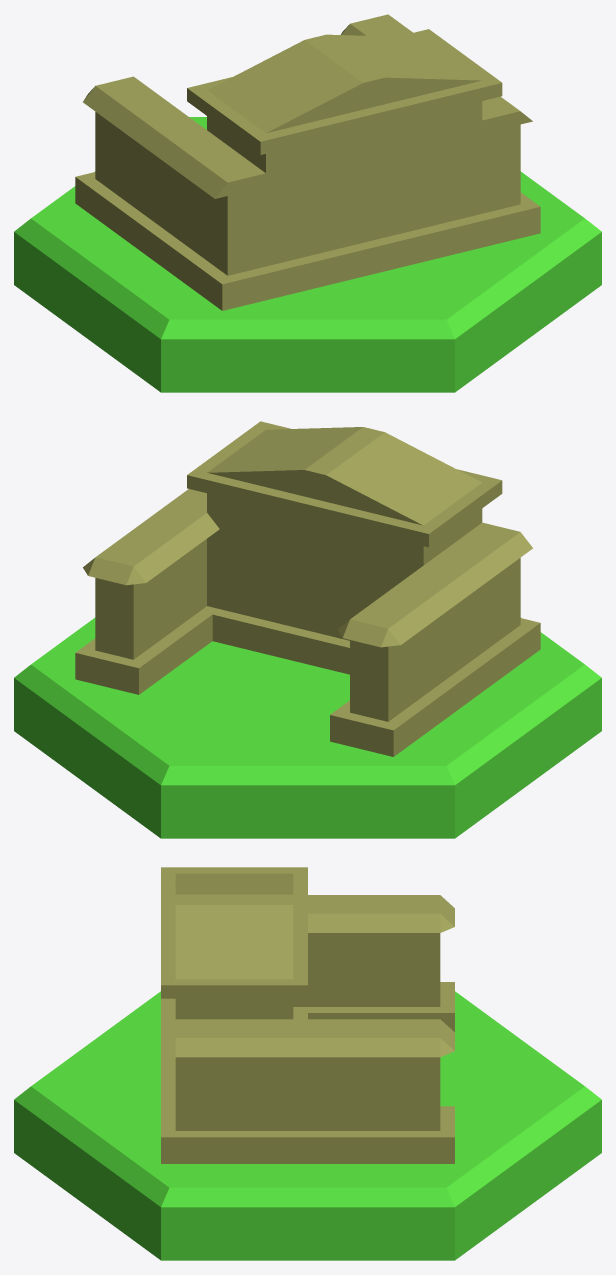
The model's file is tile_lab_lib.fbx.
3 renders of one model, top to bottom at view 1: azimuth 30°, elevation 25°; view 2: azimuth 150°, elevation 25°; view 3: azimuth 270°, elevation 25°, orthographic.
Parts seen in each view (by area): view 1: Alexandria, Pad; view 2: Alexandria, Pad; view 3: Alexandria, Pad.
Part boxes in pixels (x1,y1,x2,y2): Alexandria: (75,14,540,310); Pad: (14,117,601,392); Alexandria: (75,421,540,756); Pad: (14,617,601,838); Alexandria: (161,867,454,1163); Pad: (14,991,601,1260).
Bounding box in the file's own units: 346 × 190 × 400.
